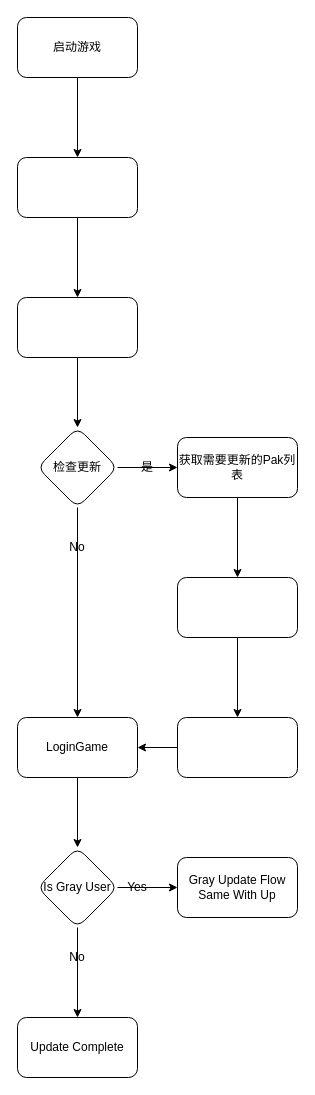
The diagram is 315 pixels wide and 1095 high, and some of its shapes have lost their labels. The box of each missing label's shape, as (x1, y1, x2, y2) in pixels:
Mount Pak: (176, 716, 298, 778)
下载Pak: (176, 576, 298, 638)
只执行必要流程，不加载游戏资源: (16, 296, 138, 358)
程序更新: (16, 156, 138, 218)
